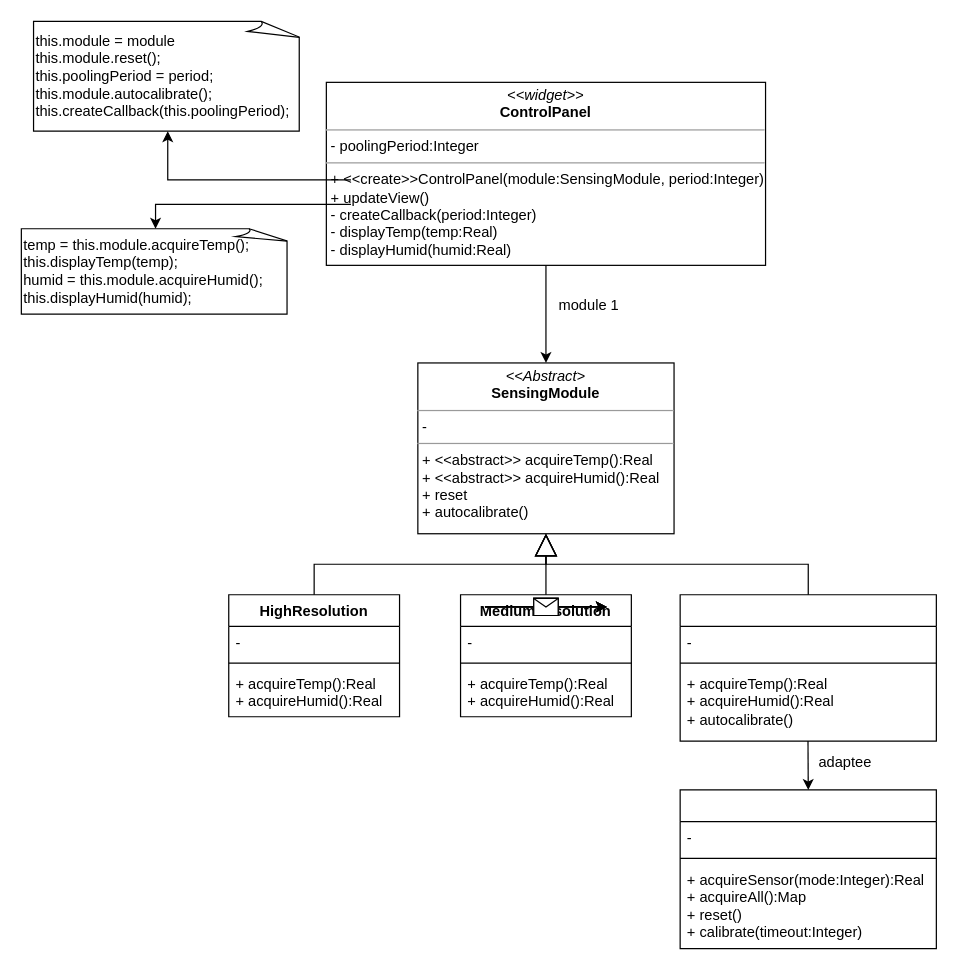
This 958x974 diagram has some shape labels left out. The shapes that lost their labels are listed below. From the top down, each one's box as (x1, y1, x2, y2) in pixels, then its label:
(679, 594, 936, 741): CombinedMatrixSensorAdapter
(679, 789, 936, 949): CombinedMatrixSensor
